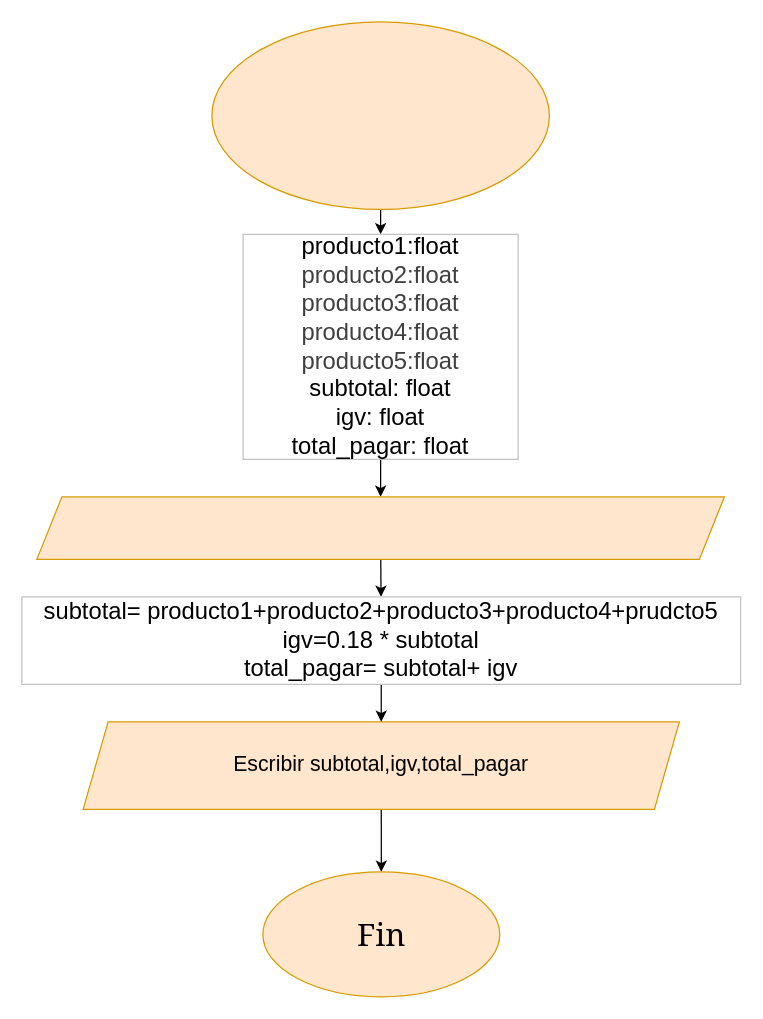
This 763x1019 diagram has some shape labels left out. Here are the shapes that lost their labels. From the top down, the centre of each, then its label:
At [380,115]: "Inicio".
At [380,527]: "Leer producto1, producto2, producto3, producto4, producto5".
